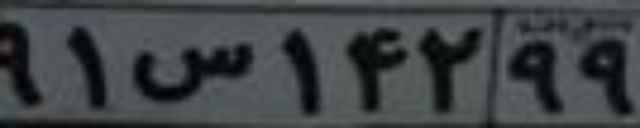1: (277, 28, 323, 113), (65, 25, 107, 107)
2: (416, 27, 483, 112)
4: (343, 28, 405, 111)
9: (576, 40, 633, 114), (505, 41, 561, 113), (1, 20, 43, 106)
sin: (128, 42, 254, 103)
